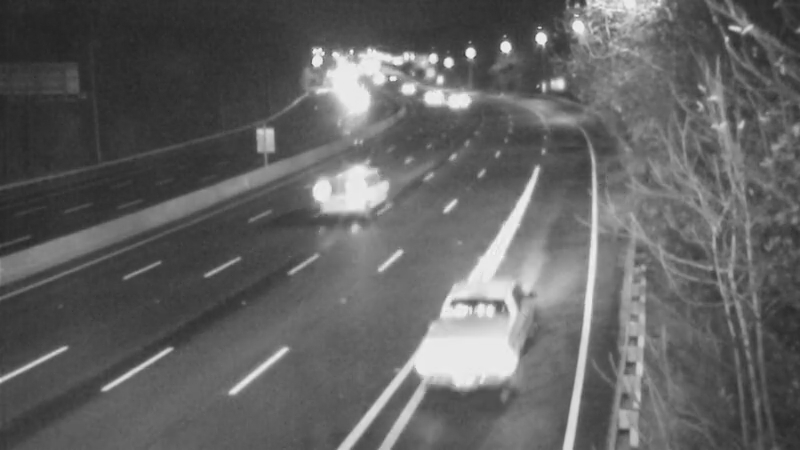vehicle: (406, 287, 516, 397), (308, 147, 388, 227), (378, 62, 428, 112), (407, 74, 457, 124), (429, 72, 479, 122)
